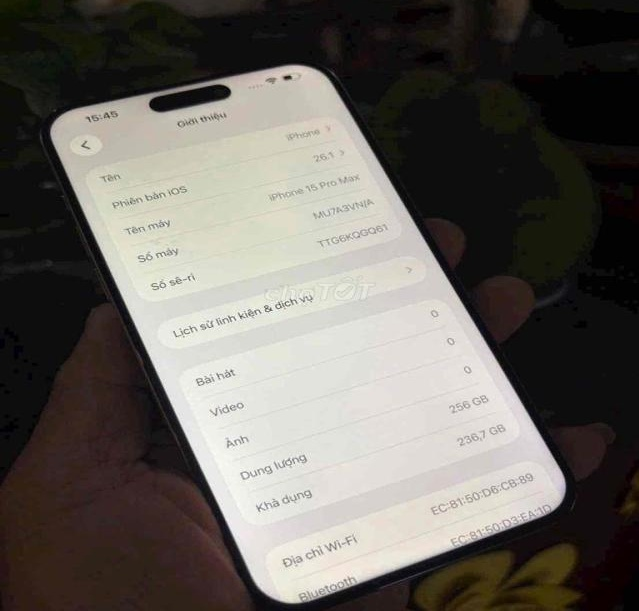scratch: (47, 104, 59, 113)
